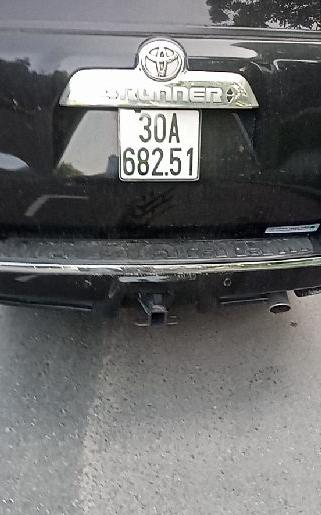Plate-iWeP: (118, 108, 201, 176)
